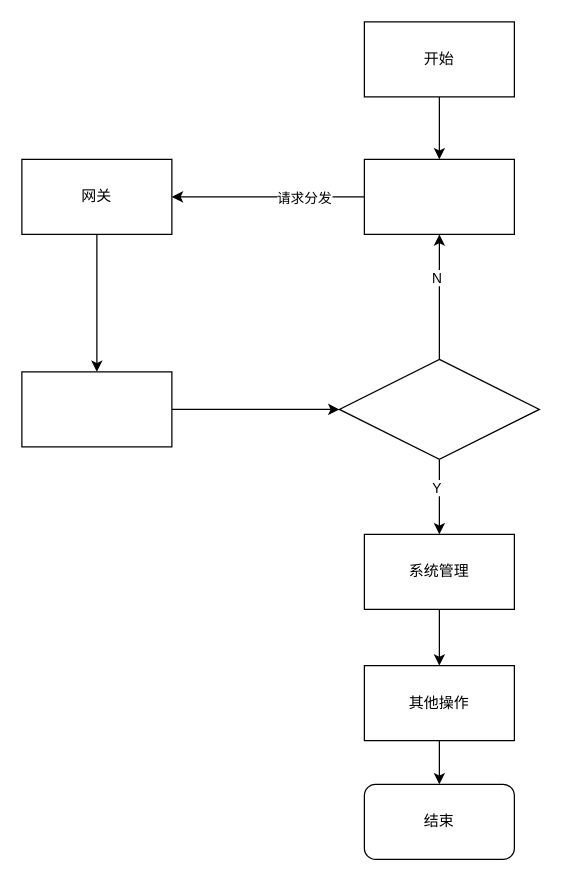
Some shapes in this 561 by 881 pixel diagram are drawn without their labels. The centre of each missing label's shape, as x and y in pixels:
"consul" goes at point (96, 409).
"Nginx" goes at point (438, 196).
"鉴权" goes at point (438, 408).
